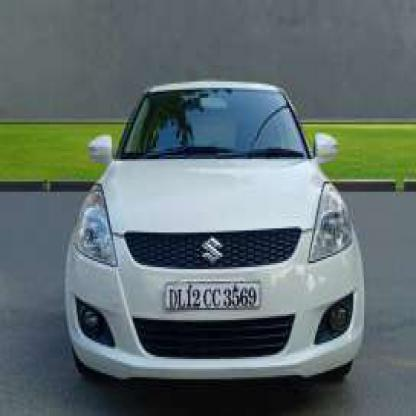license: (164, 283, 262, 312)
